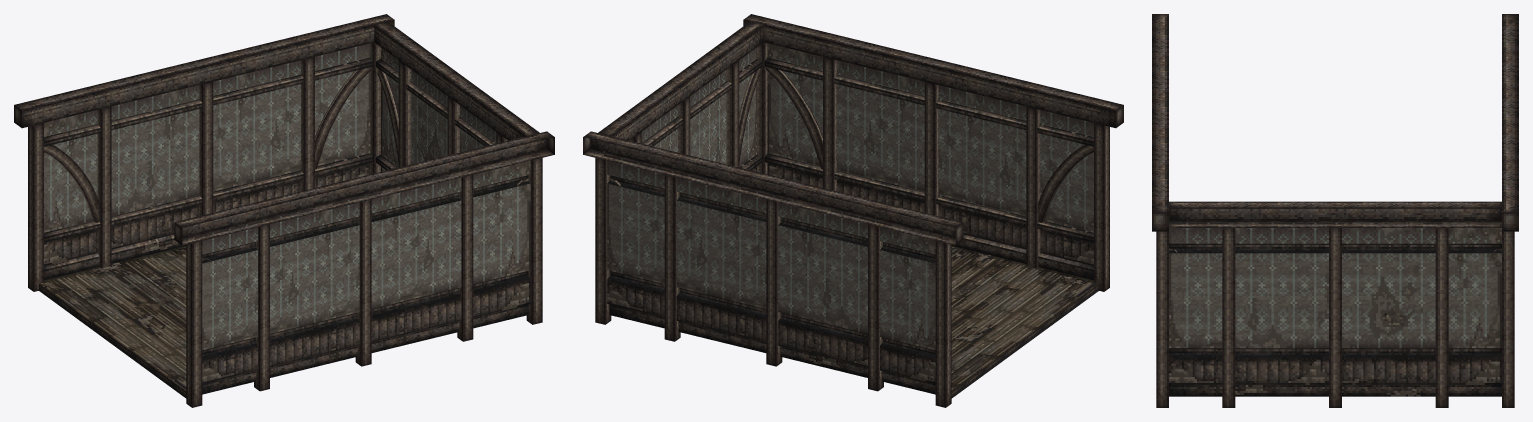
Rendered from EnvBdgMD_City_D_Indoor_House_A.FBX.
3 renders of one model, left to right at view 1: azimuth 30°, elevation 25°; view 2: azimuth 150°, elevation 25°; view 3: azimuth 270°, elevation 25°, orthographic. The views are drawn at different scales.
Parts seen in each view (by area): view 1: EnvBdgMD_City_D_Indoor_House_A; view 2: EnvBdgMD_City_D_Indoor_House_A; view 3: EnvBdgMD_City_D_Indoor_House_A.
Part boxes in pixels (left/top/right/bottom): EnvBdgMD_City_D_Indoor_House_A: left=14, top=14, right=554, bottom=407; EnvBdgMD_City_D_Indoor_House_A: left=583, top=14, right=1123, bottom=407; EnvBdgMD_City_D_Indoor_House_A: left=1152, top=14, right=1518, bottom=407.
Size of the model in its own units: 1100 by 520 by 860.
